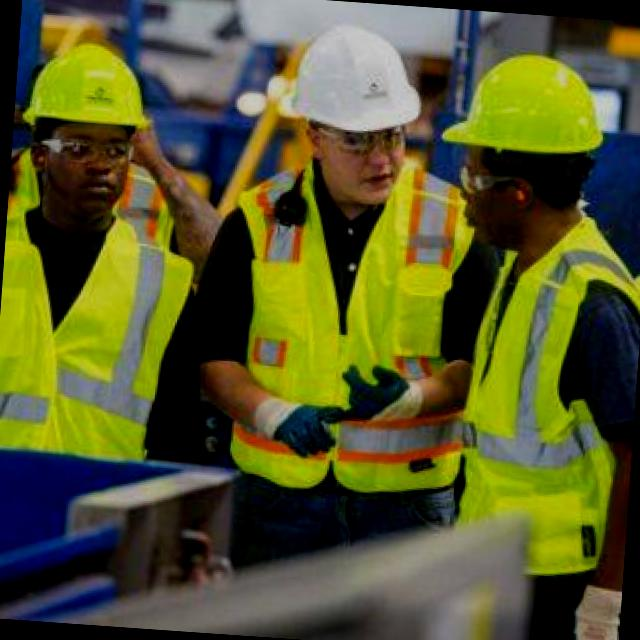goggles: (34, 128, 146, 168), (299, 119, 411, 159), (449, 156, 535, 202)
helmet: (272, 20, 446, 153), (438, 44, 612, 174), (23, 28, 163, 144)
vest: (219, 150, 456, 514), (438, 198, 640, 578), (0, 193, 193, 448)
